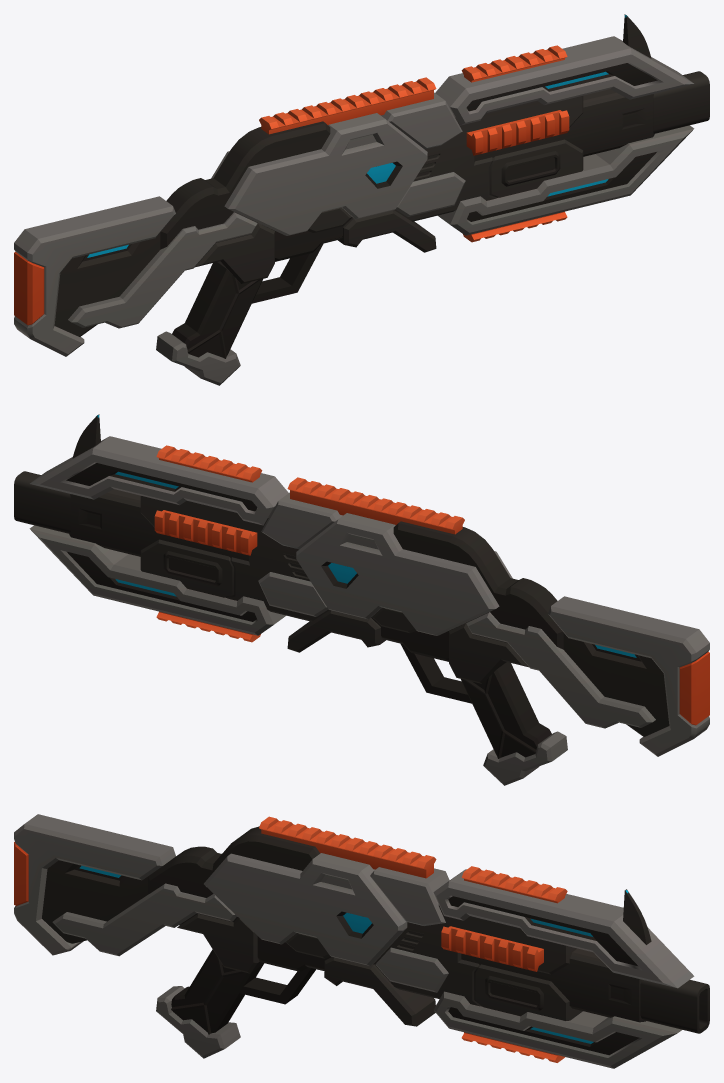
3 views of the same model, one above another, from view 1: azimuth 30°, elevation 25°; view 2: azimuth 150°, elevation 25°; view 3: azimuth 330°, elevation 25° (orthographic).
Parts seen in each view (by area): view 1: AR8_Base; view 2: AR8_Base; view 3: AR8_Base.
Part boxes in pixels (bbox=[...]): AR8_Base: bbox=[14, 14, 709, 385]; AR8_Base: bbox=[14, 414, 709, 785]; AR8_Base: bbox=[14, 814, 709, 1068].
Bounding box in the file's own units: 81.58 × 30.17 × 7.13.
